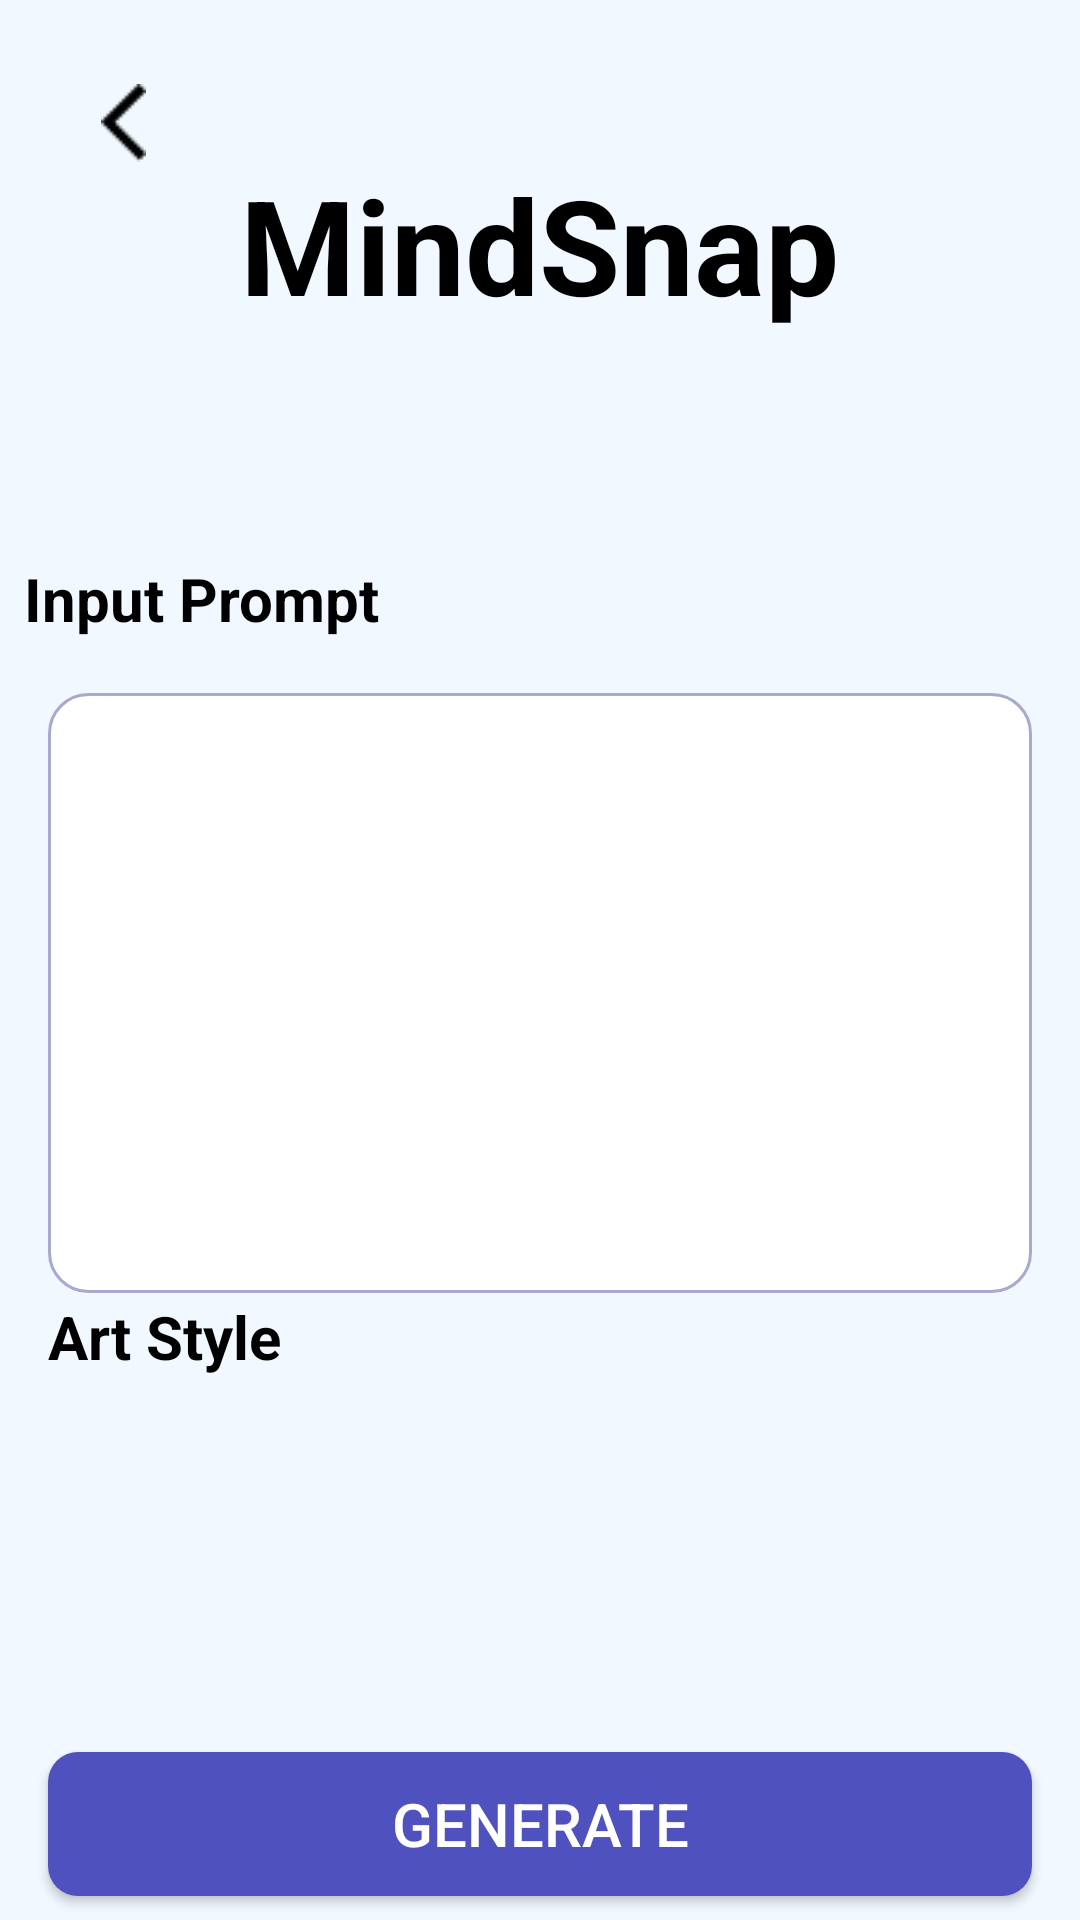

Icons on this 1080w x 1920h Android screen, each with its box as BBox(x1, y1, x2, y2):
back: BBox(101, 84, 146, 162)
